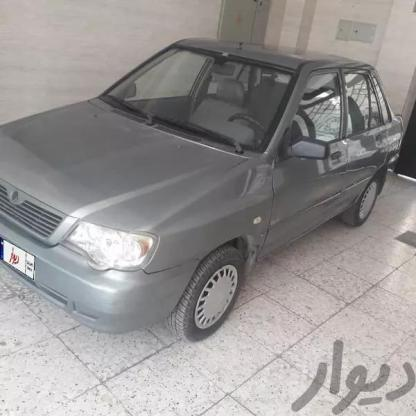Car: (0, 32, 406, 312)
